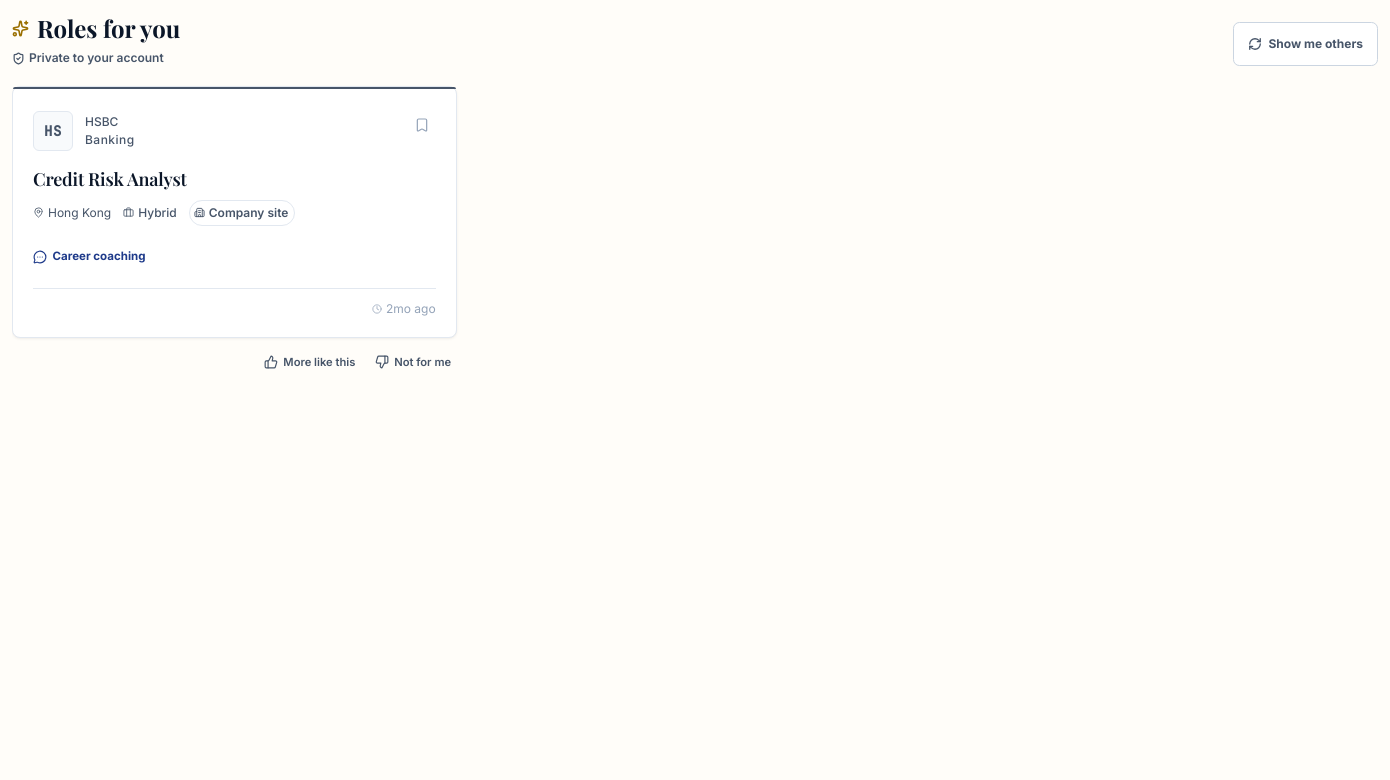
Roles for you › dismisses an unwanted Role directly and offers Undo
Click the button "Not for me".
click(413, 362)  # box [371, 340, 454, 384]
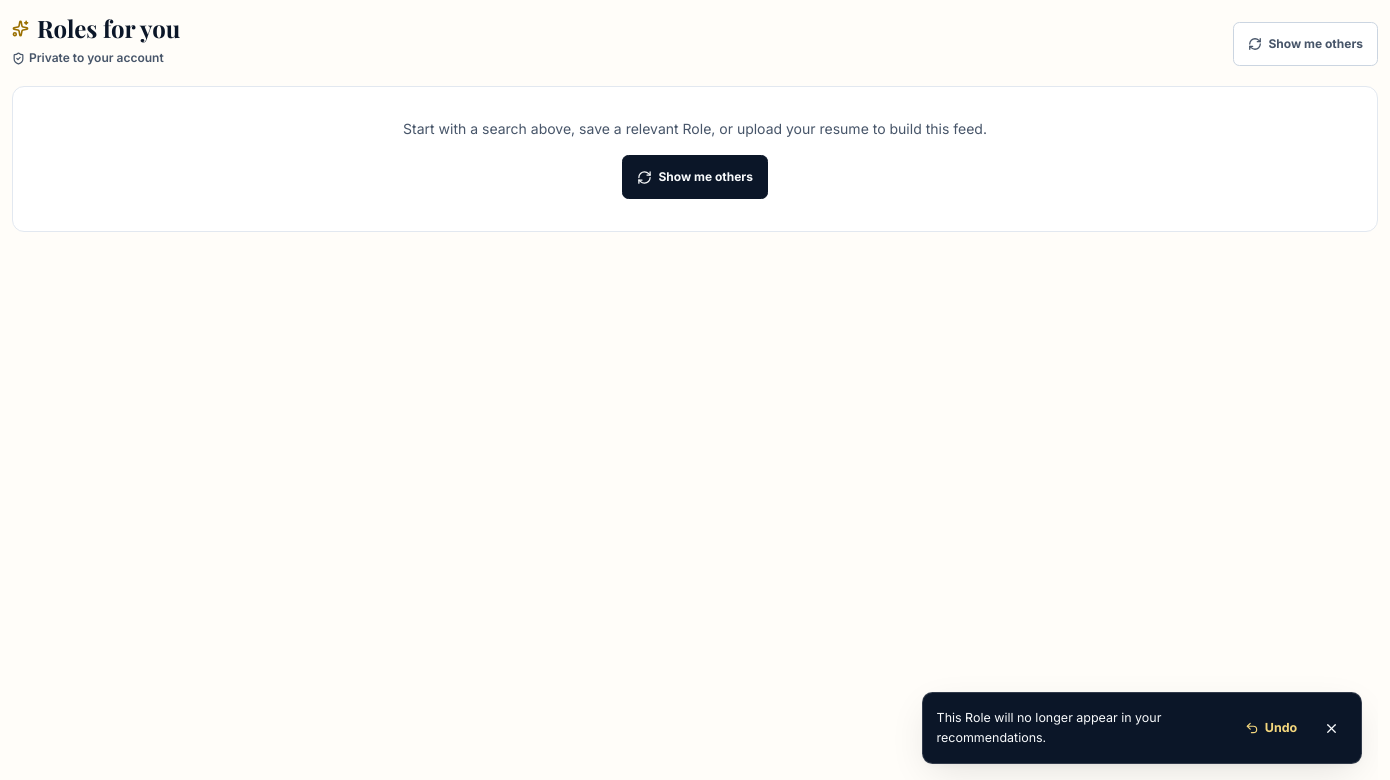
Check: the button "Undo" is shown, box [1237, 706, 1305, 750]
Check: the link "Credit Risk Analyst" is gone
